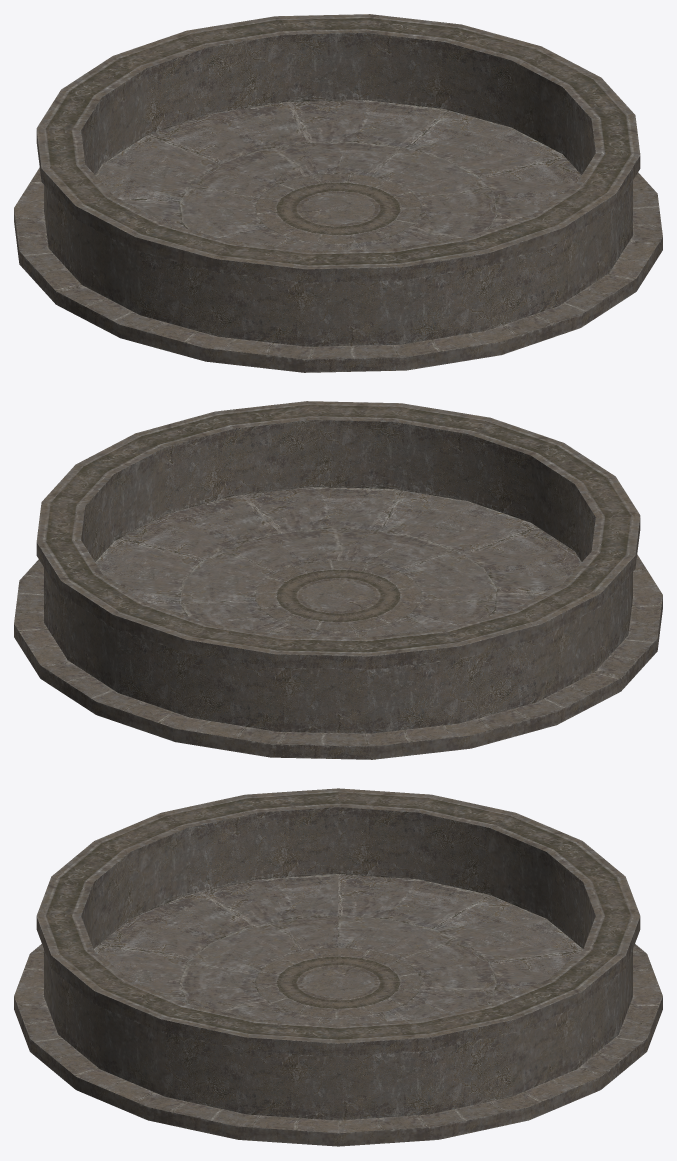
Rendered from FountainBasin.fbx.
3 views of the same model, one above another, from view 1: azimuth 30°, elevation 25°; view 2: azimuth 150°, elevation 25°; view 3: azimuth 270°, elevation 25° (orthographic).
Visible parts, largest first — view 1: Trim_FountainBasin; view 2: Trim_FountainBasin; view 3: Trim_FountainBasin.
Boxes of the visible parts, <box> form: Trim_FountainBasin: <box>14,14,662,372</box>; Trim_FountainBasin: <box>14,401,662,759</box>; Trim_FountainBasin: <box>14,788,662,1146</box>.
Size of the model in its own units: 440 by 70 by 440.
